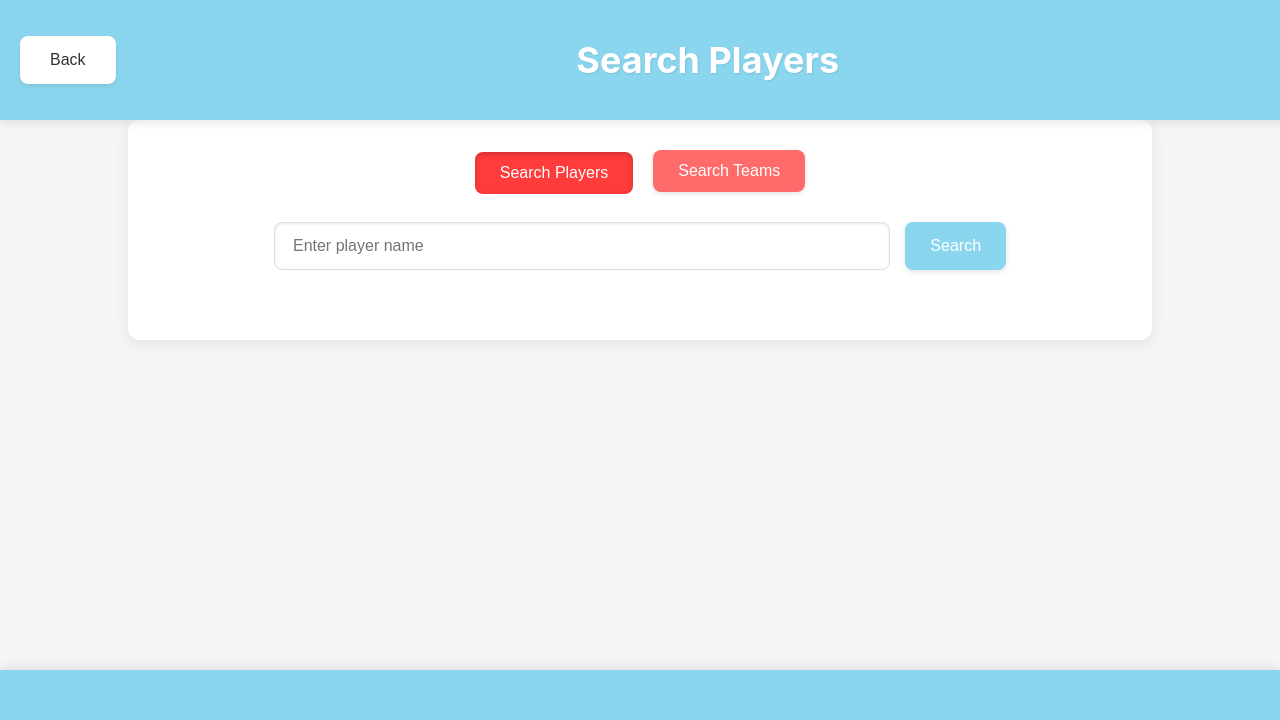
Test case: SearchInterface Component › search_loading_screen
The image size is (1280, 720).
// put in search term and hit search button
Type "LeBron" into the field with placeholder "Enter player name" at (582, 246), box [274,222,890,270]
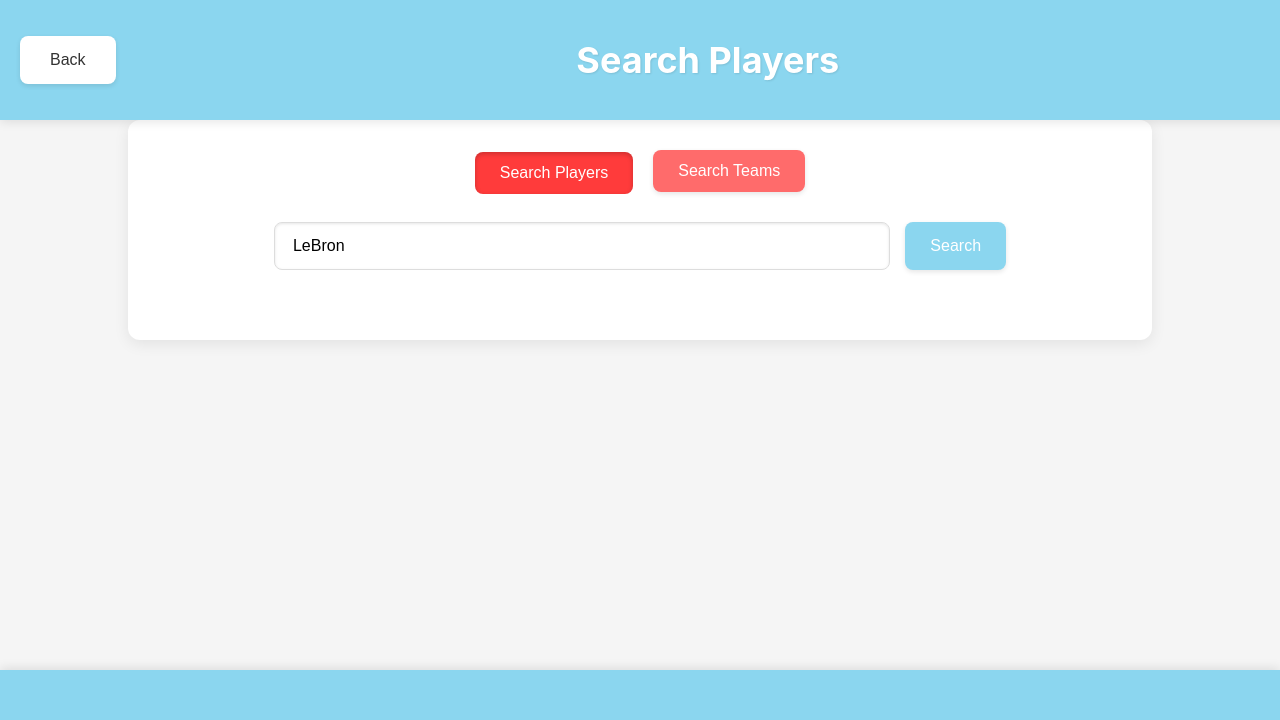
Click the button "Search" at (956, 246), box [905,222,1006,270]
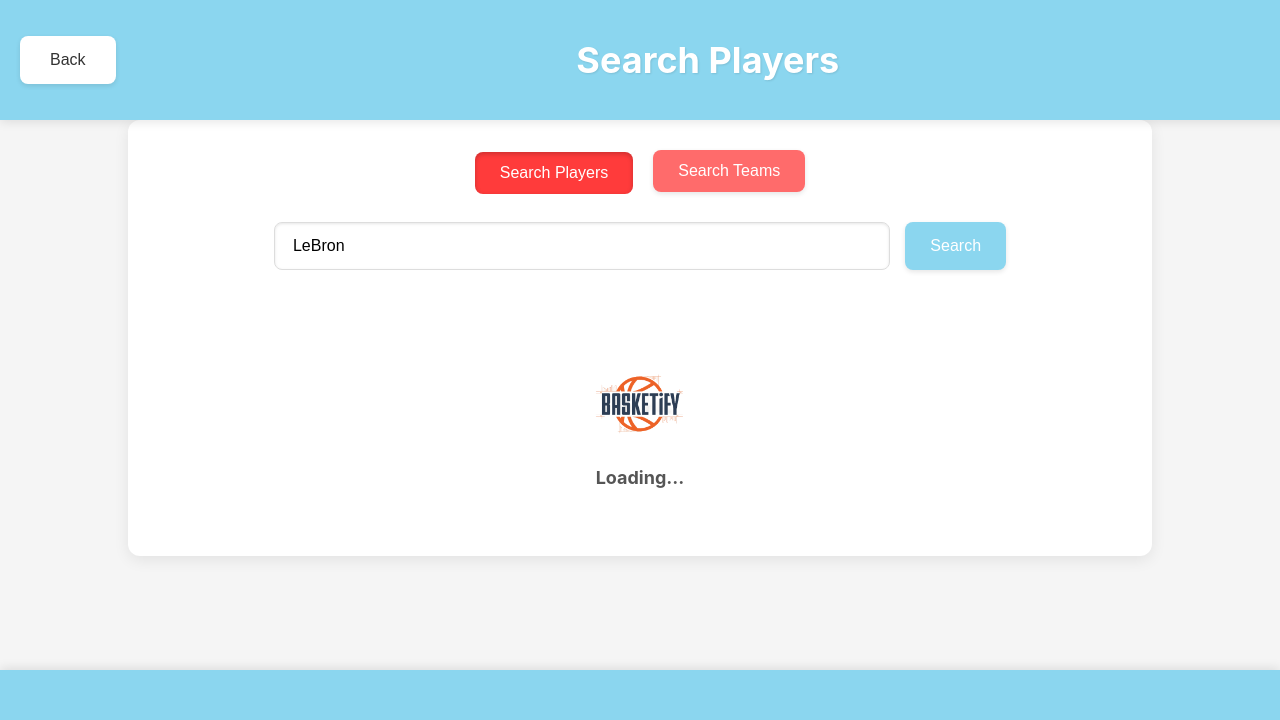
Result: the heading "Loading..." is shown at [596,467,684,488]
